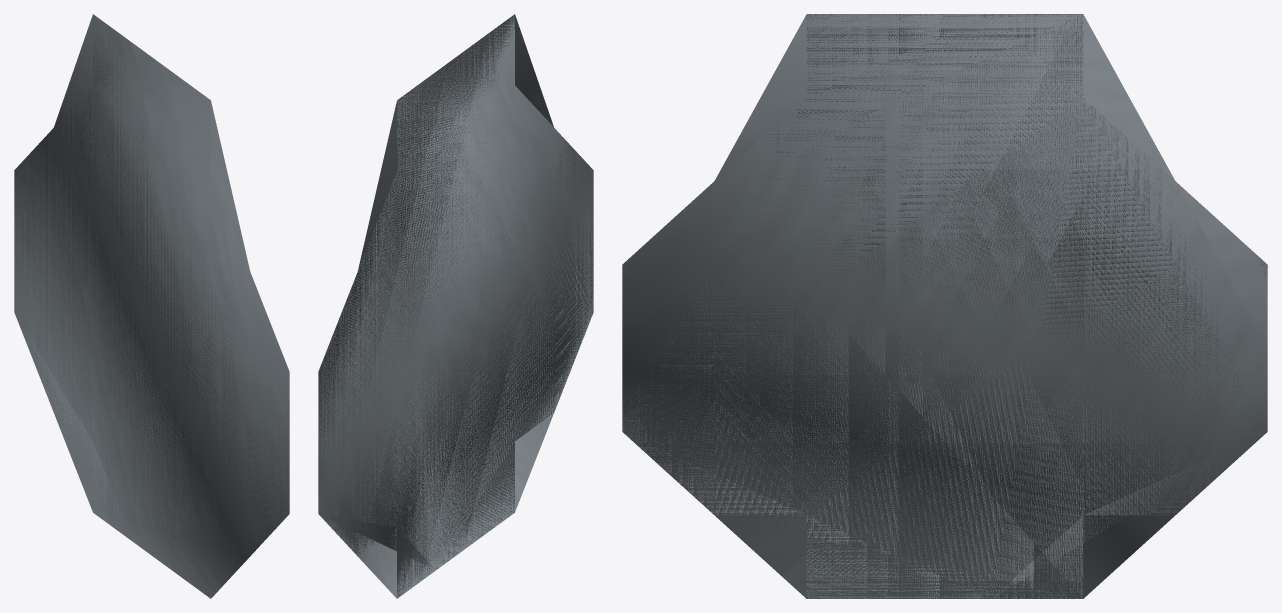
3 views of the same model, side by side, from view 1: azimuth 30°, elevation 25°; view 2: azimuth 150°, elevation 25°; view 3: azimuth 270°, elevation 25° (orthographic). The views are drawn at different scales.
Bounding box in the file's own units: 0 × 0.56 × 0.56.
Materials: 1 (1 with a texture image).
